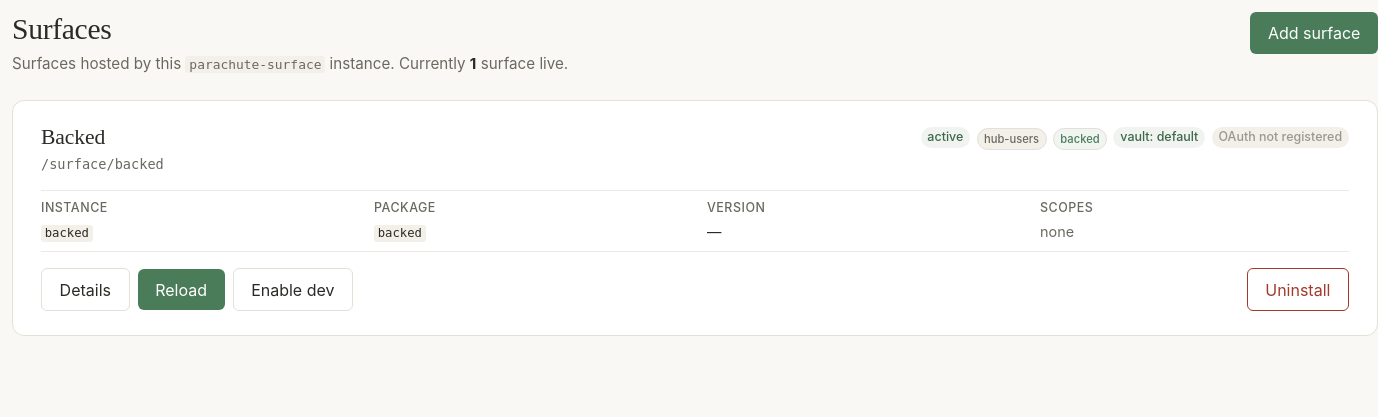
Modules › hub teardown failure + operator proceeds → host removal runs, banner says hub side did NOT run
Click the button "Uninstall" at (1298, 290), box [1247,268,1349,312]
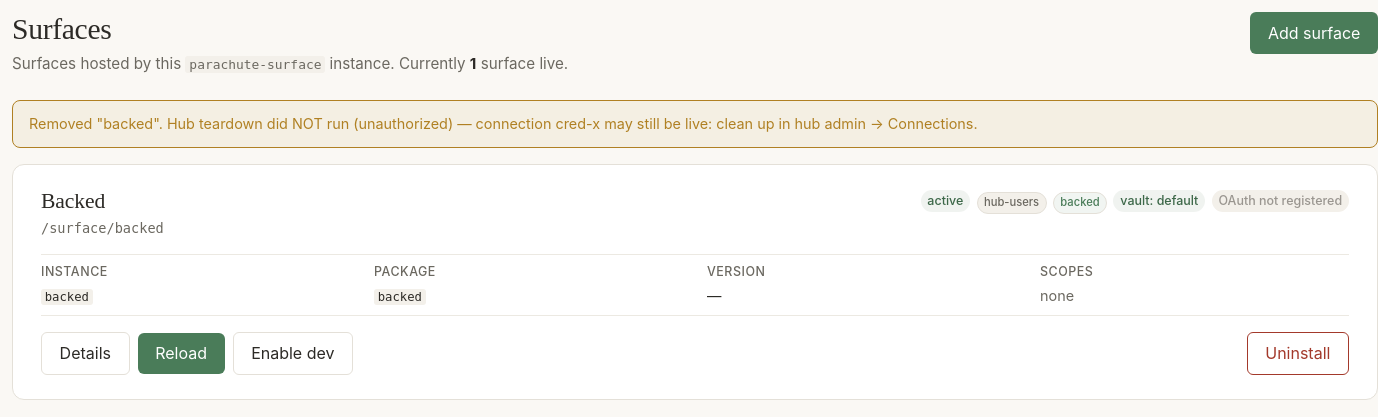
Now the text "hub admin → Connections" is shown, box [29,115,978,132]
